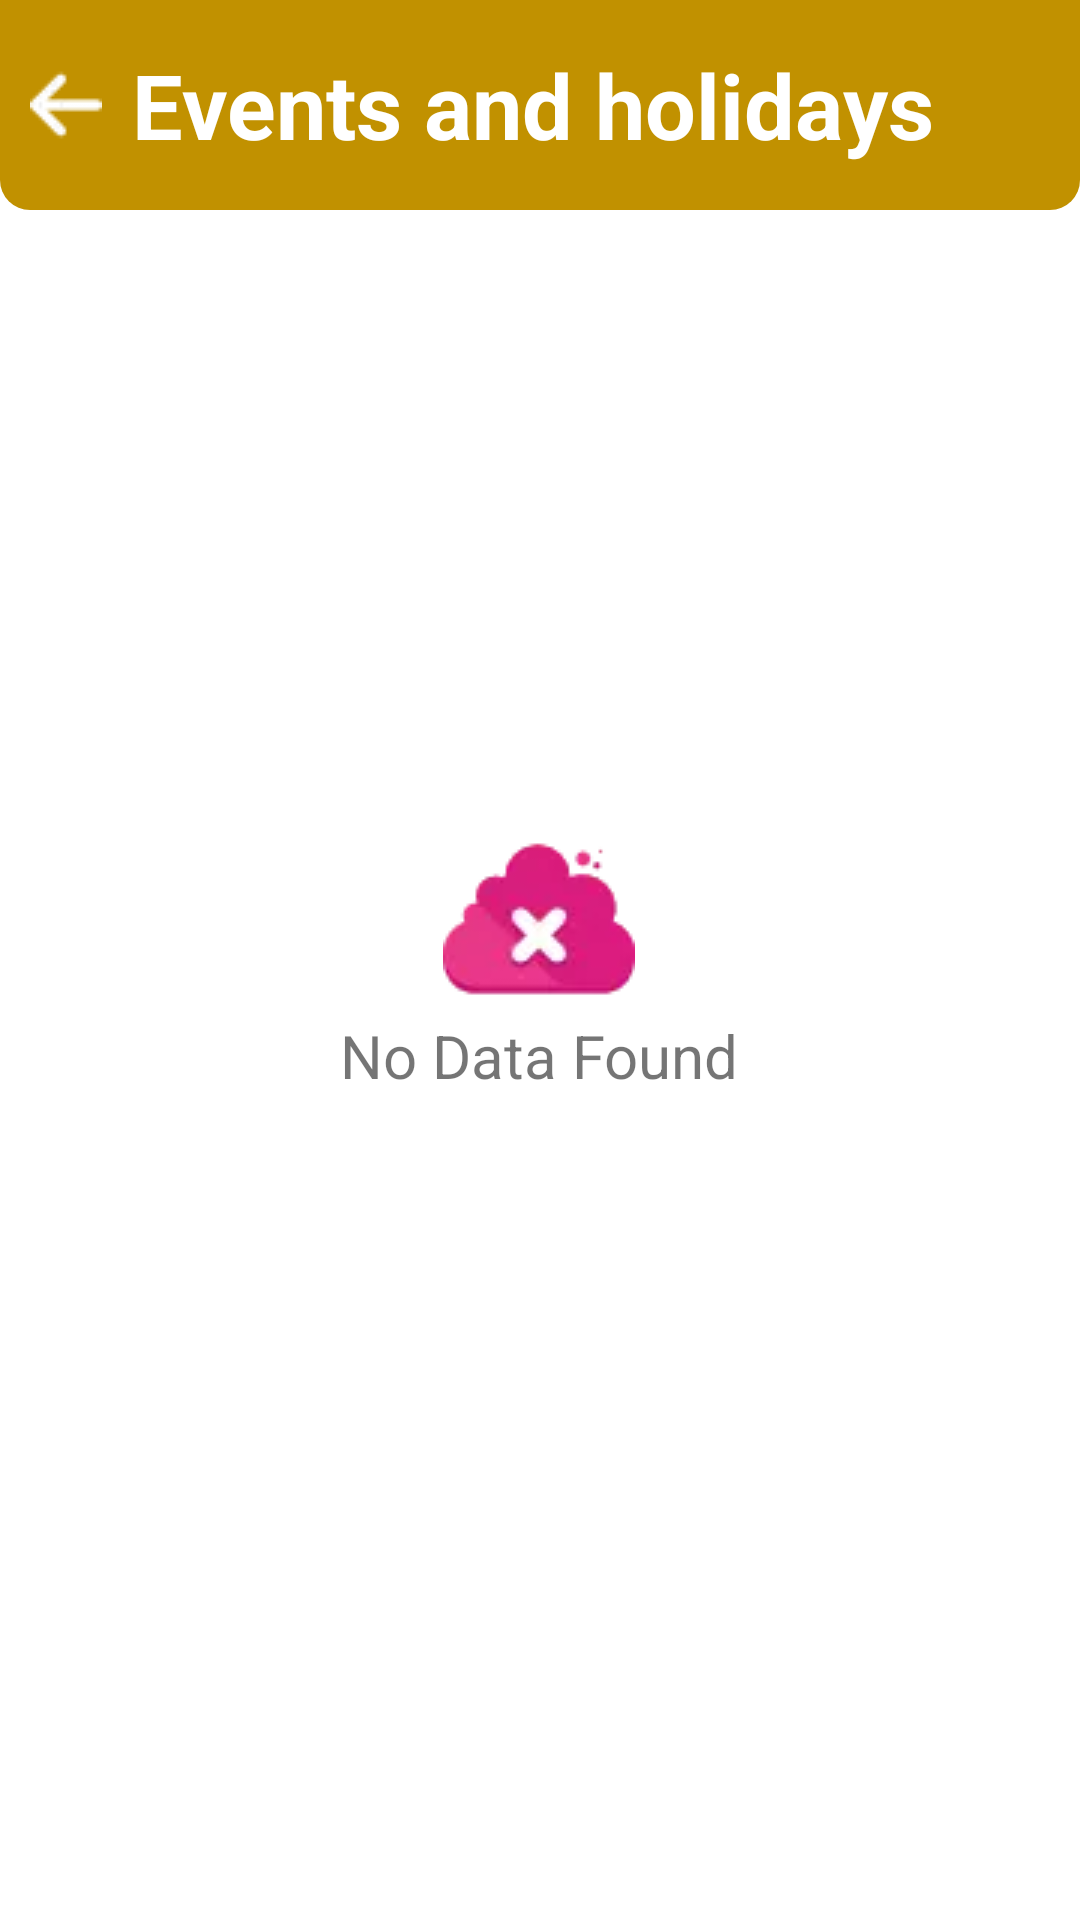

Screen size 1080w x 1920h. Icon name, then its center in pixels as (x=x, y=y):
arrow: (x=66, y=105)
